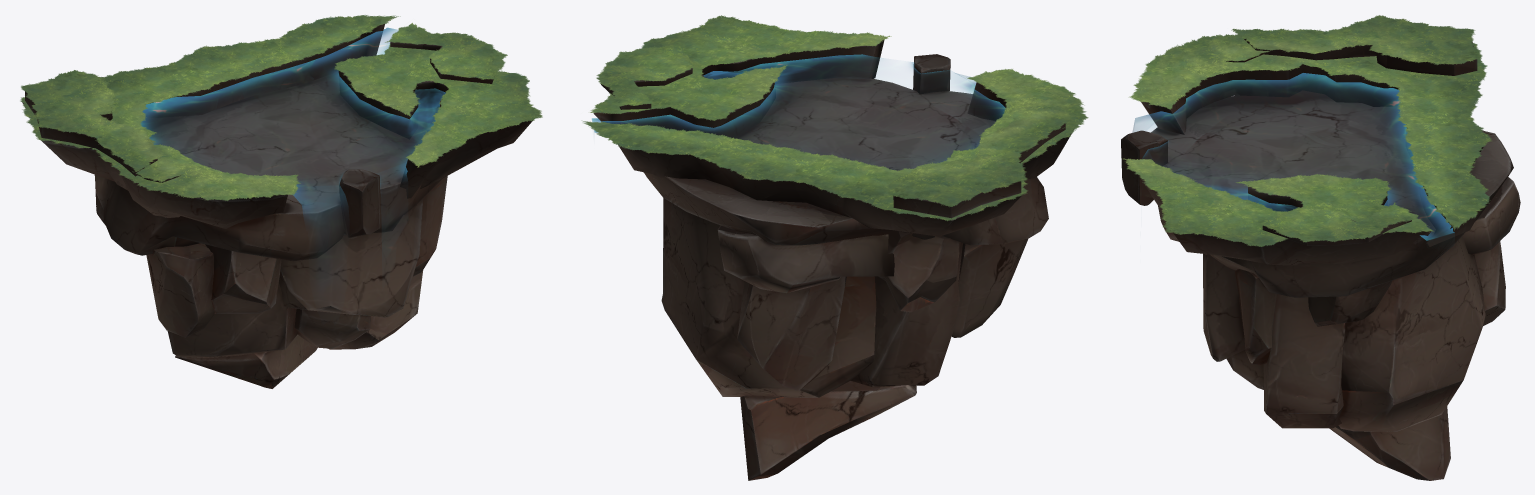
The model's file is IslandV2.glb.
3 views of the same model, side by side, from view 1: azimuth 30°, elevation 25°; view 2: azimuth 150°, elevation 25°; view 3: azimuth 270°, elevation 25° (orthographic). The views are drawn at different scales.
Visible parts, largest first — view 1: Props_Arena_Island.003, Props_Grass.003, Props_Lake.003; view 2: Props_Arena_Island.003, Props_Grass.003, Props_Lake.003; view 3: Props_Arena_Island.003, Props_Grass.003, Props_Lake.003.
Boxes of the visible parts, x1=… form: Props_Arena_Island.003: x1=22, y1=24, x2=532, y2=388; Props_Grass.003: x1=20, y1=15, x2=542, y2=200; Props_Lake.003: x1=140, y1=27, x2=445, y2=242; Props_Arena_Island.003: x1=593, y1=39, x2=1071, y2=480; Props_Grass.003: x1=581, y1=15, x2=1088, y2=221; Props_Lake.003: x1=592, y1=54, x2=1005, y2=170; Props_Arena_Island.003: x1=1121, y1=38, x2=1520, y2=480; Props_Grass.003: x1=1123, y1=15, x2=1491, y2=246; Props_Lake.003: x1=1132, y1=73, x2=1454, y2=240.
Size of the model in its own units: 65.77 by 47.06 by 49.94.
Materials: 3 (3 with a texture image).
